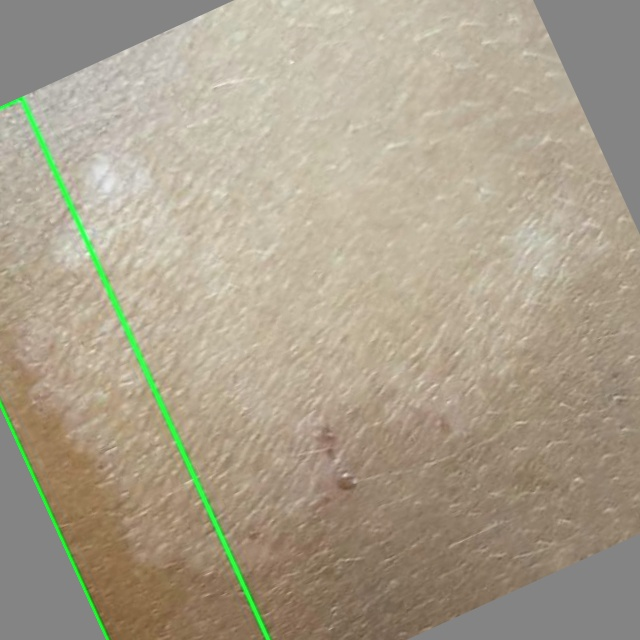Seborrheic Dermatitis: (0, 97, 268, 639)
